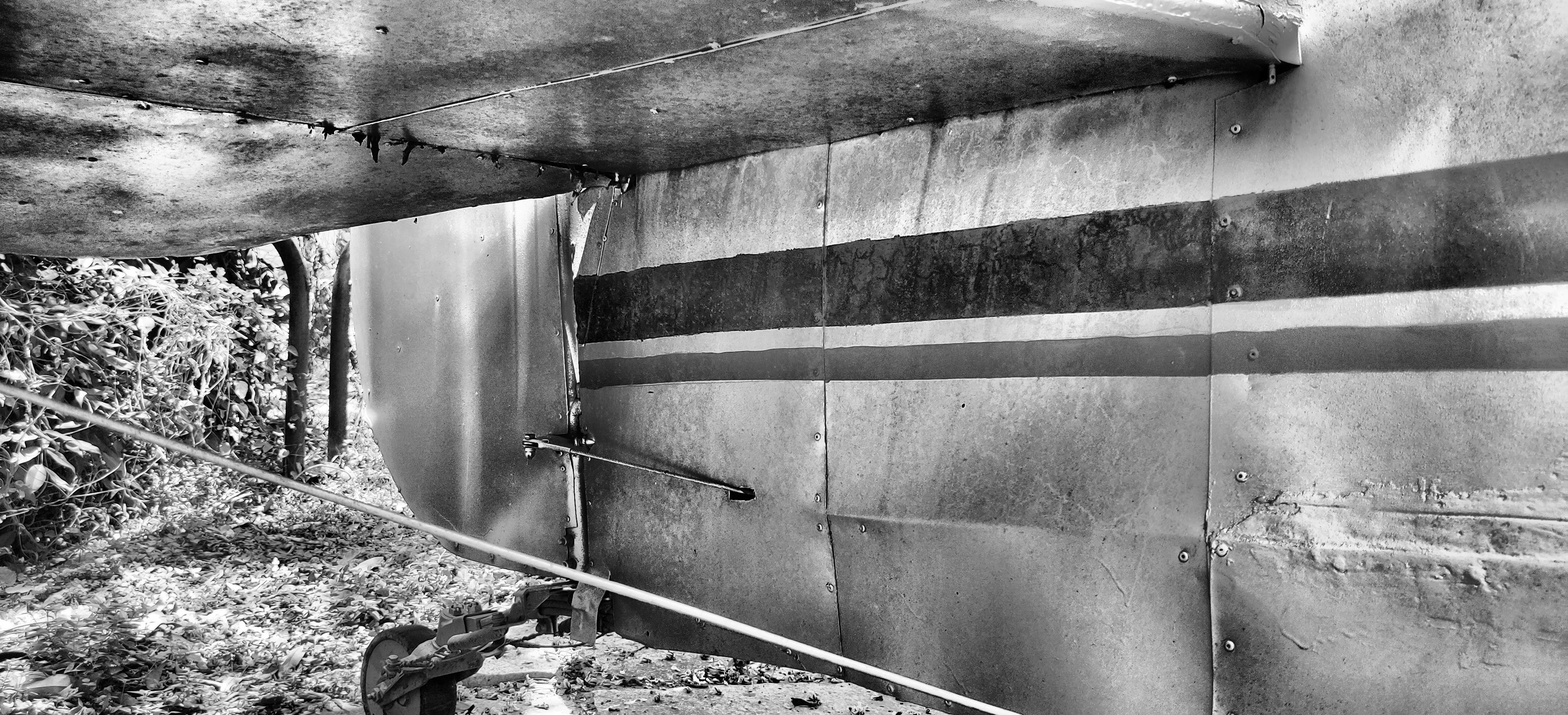dent: (361, 401, 380, 429)
missing-head: (555, 450, 562, 455)
